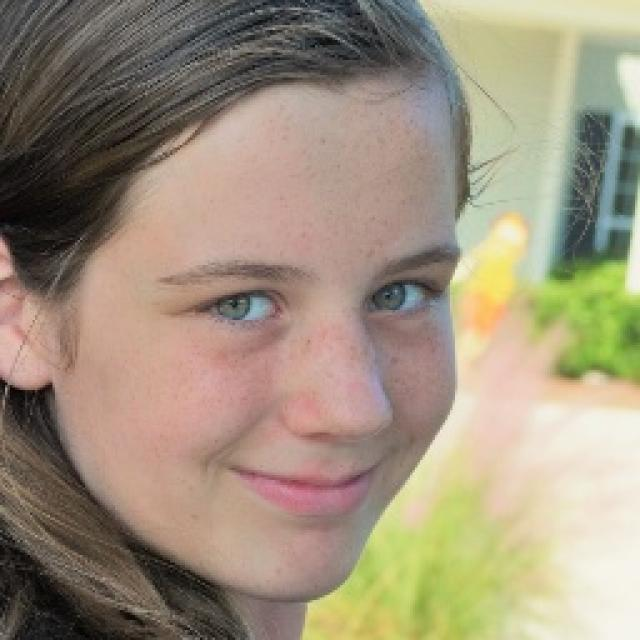earlobe: (0, 322, 51, 391)
eye: (194, 291, 286, 321), (368, 278, 436, 313)
nose: (291, 425, 369, 466)
wholeear: (0, 235, 54, 392)
